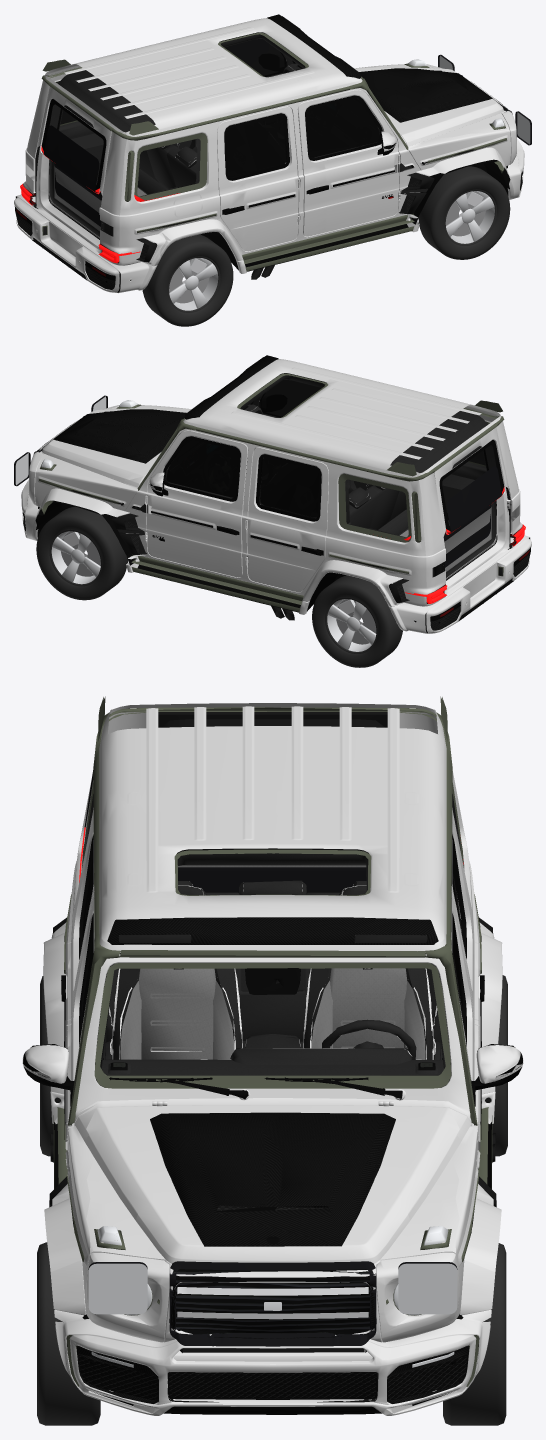
The model's file is mercedez_g_wagon.glb.
The picture shows the model from 3 angles, top to bottom: view 1: azimuth 30°, elevation 25°; view 2: azimuth 150°, elevation 25°; view 3: azimuth 270°, elevation 25°; orthographic projection. The views are drawn at different scales.
Visible parts, largest first — view 1: core, part_roof, part_glass, part_door_fr, part_quarter_rr, part_door_rr, wheel_fr, wheel_rr, part_rear_bumper, part_trunk, part_hood, liner_trim (+5 smaller); view 2: core, part_roof, part_glass, part_door_fl, part_quarter_rl, part_door_rl, wheel_fl, wheel_rl, part_rear_bumper, part_trunk, part_hood, liner_trim (+4 smaller); view 3: core, part_roof, part_hood, part_front_bumper, liner_trim, wheel_fr, wheel_fl, part_fender_fr, part_fender_fl, part_door_fl, part_door_fr, part_quarter_rl (+11 smaller).
Part boxes in pixels (x1,y1,x2,y2): core: (14,14,523,292); part_roof: (43,18,388,184); part_glass: (41,16,410,219); part_door_fr: (323,123,429,234); part_quarter_rr: (97,163,246,273); part_door_rr: (240,143,325,266); wheel_fr: (418,166,510,259); wheel_rr: (142,234,233,326); part_rear_bumper: (14,174,161,293); part_trunk: (25,74,170,253); part_hood: (354,64,516,141); liner_trim: (44,54,531,226); core: (22,355,530,633); part_roof: (157,359,502,525); part_glass: (135,357,504,560); part_door_fl: (116,464,222,575); part_quarter_rl: (299,504,448,614); part_door_rl: (220,484,304,607); wheel_fl: (36,506,127,600); wheel_rl: (312,575,402,667); part_rear_bumper: (384,515,531,633); part_trunk: (375,415,520,594); part_hood: (29,405,191,482); liner_trim: (14,395,501,567); core: (23,696,522,1414); part_roof: (79,706,466,1056); part_hood: (79,1090,466,1285); part_front_bumper: (50,1259,495,1415); liner_trim: (88,867,457,1346); wheel_fr: (37,1242,100,1425); wheel_fl: (443,1243,506,1425); part_fender_fr: (44,1135,140,1271); part_fender_fl: (405,1135,501,1271); part_door_fl: (273,1026,490,1196); part_door_fr: (55,1026,272,1196); part_quarter_rl: (456,807,502,1123).
Size of the model in its own units: 4.82 by 2.12 by 2.38.
Materials: 67 (54 with a texture image).
